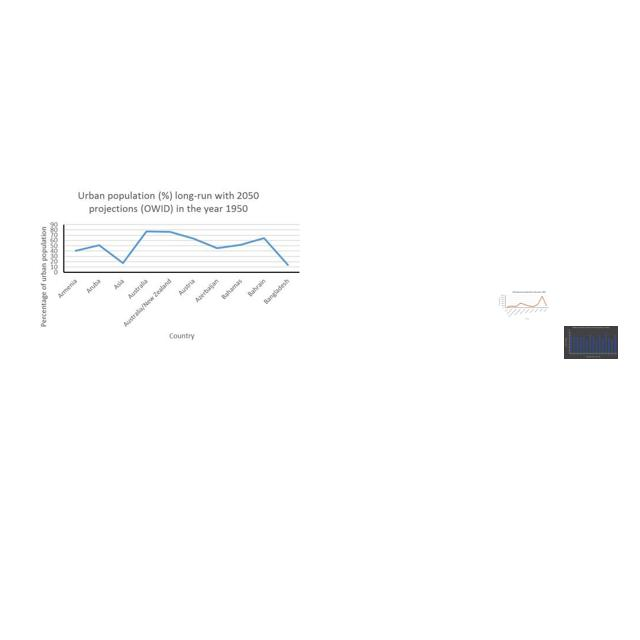Graph: (35, 188, 305, 342), (564, 326, 618, 359), (497, 290, 550, 321)
